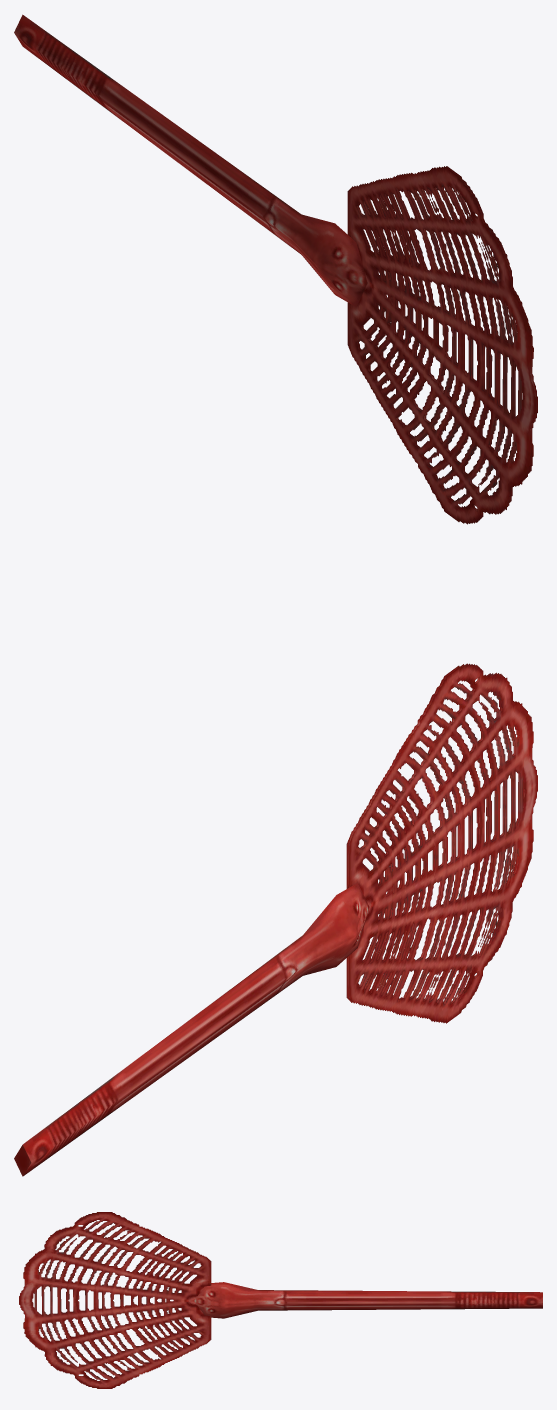
The picture shows the model from 3 angles, top to bottom: view 1: azimuth 30°, elevation 25°; view 2: azimuth 150°, elevation 25°; view 3: azimuth 270°, elevation 25°; orthographic projection. The views are drawn at different scales.
Parts seen in each view (by area): view 1: i003020; view 2: i003020; view 3: i003020.
Boxes of the visible parts, <box> form: i003020: <box>14,14,537,524</box>; i003020: <box>14,663,537,1176</box>; i003020: <box>19,1212,542,1388</box>.
Size of the model in its own units: 4.69 by 43.22 by 109.
1 material, 1 textured.
